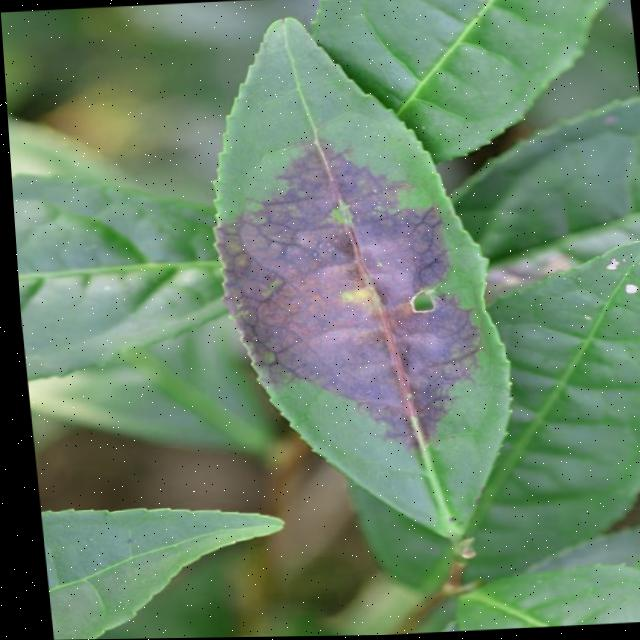Tea exobasidium blight: (221, 150, 457, 437)
